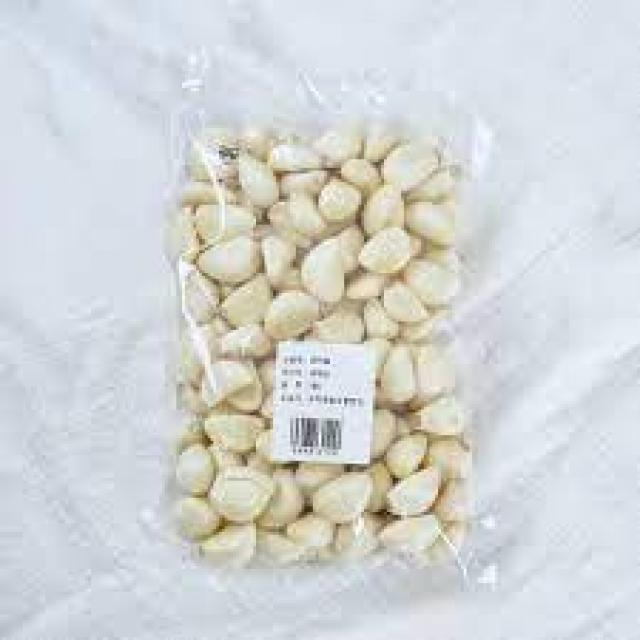Garlic bulb: (287, 142, 441, 290), (196, 461, 387, 566), (194, 230, 342, 336), (227, 134, 350, 256)
